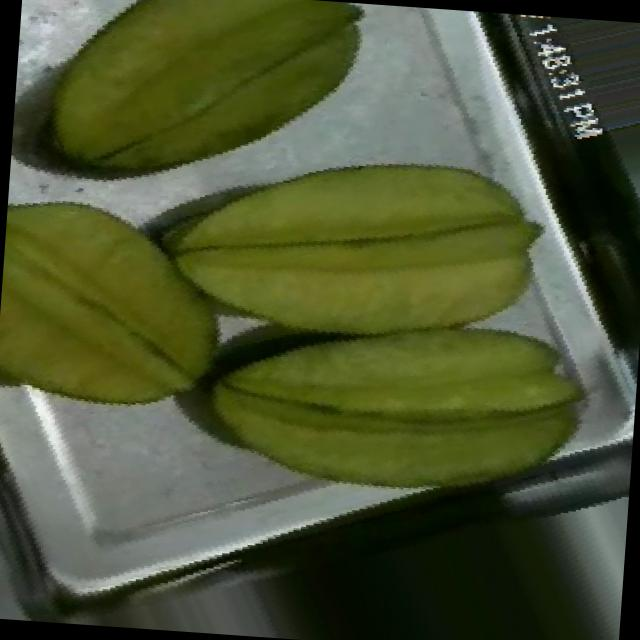fruit: (108, 91, 602, 638), (17, 0, 396, 232), (0, 166, 265, 471)
